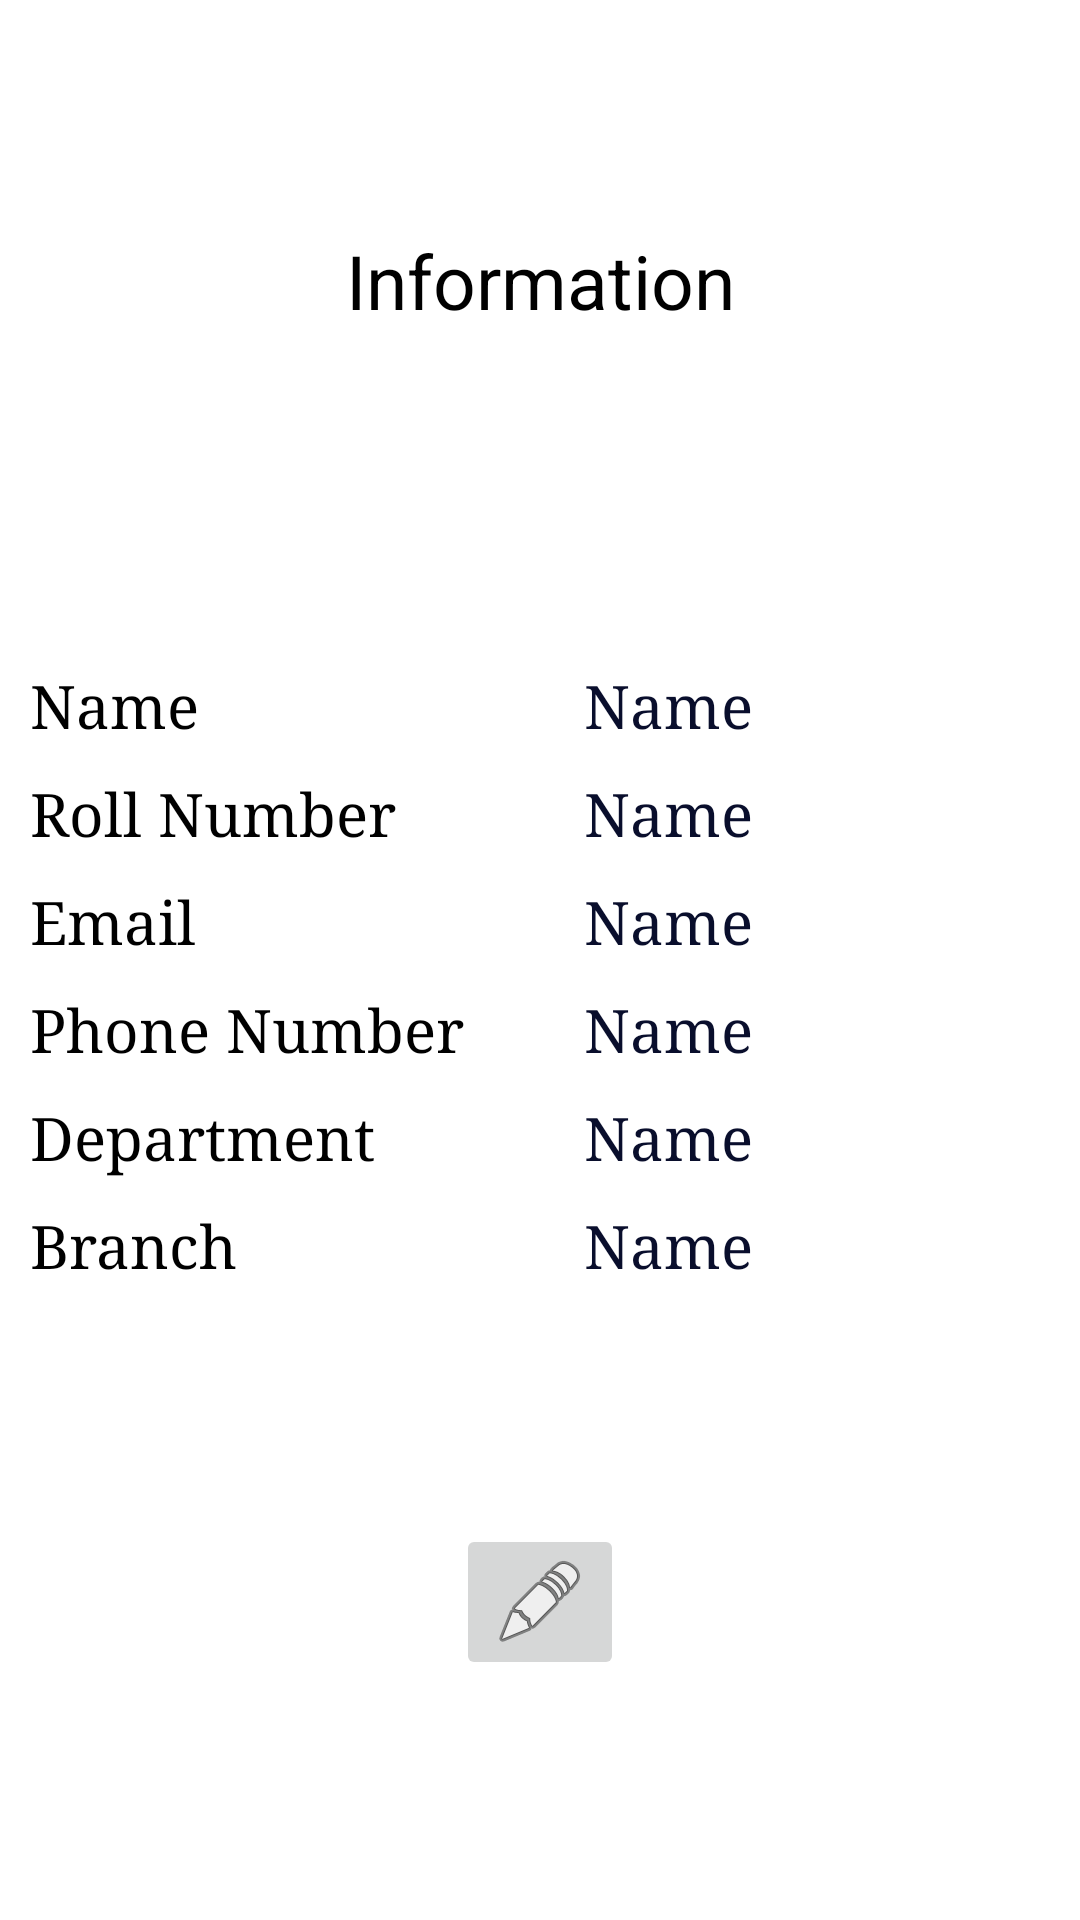

Named icons in this screenshot (1080 × 1920) and their bounding boxes, (x1, y1, x2, y2):
edit: (468, 1542, 612, 1662)
